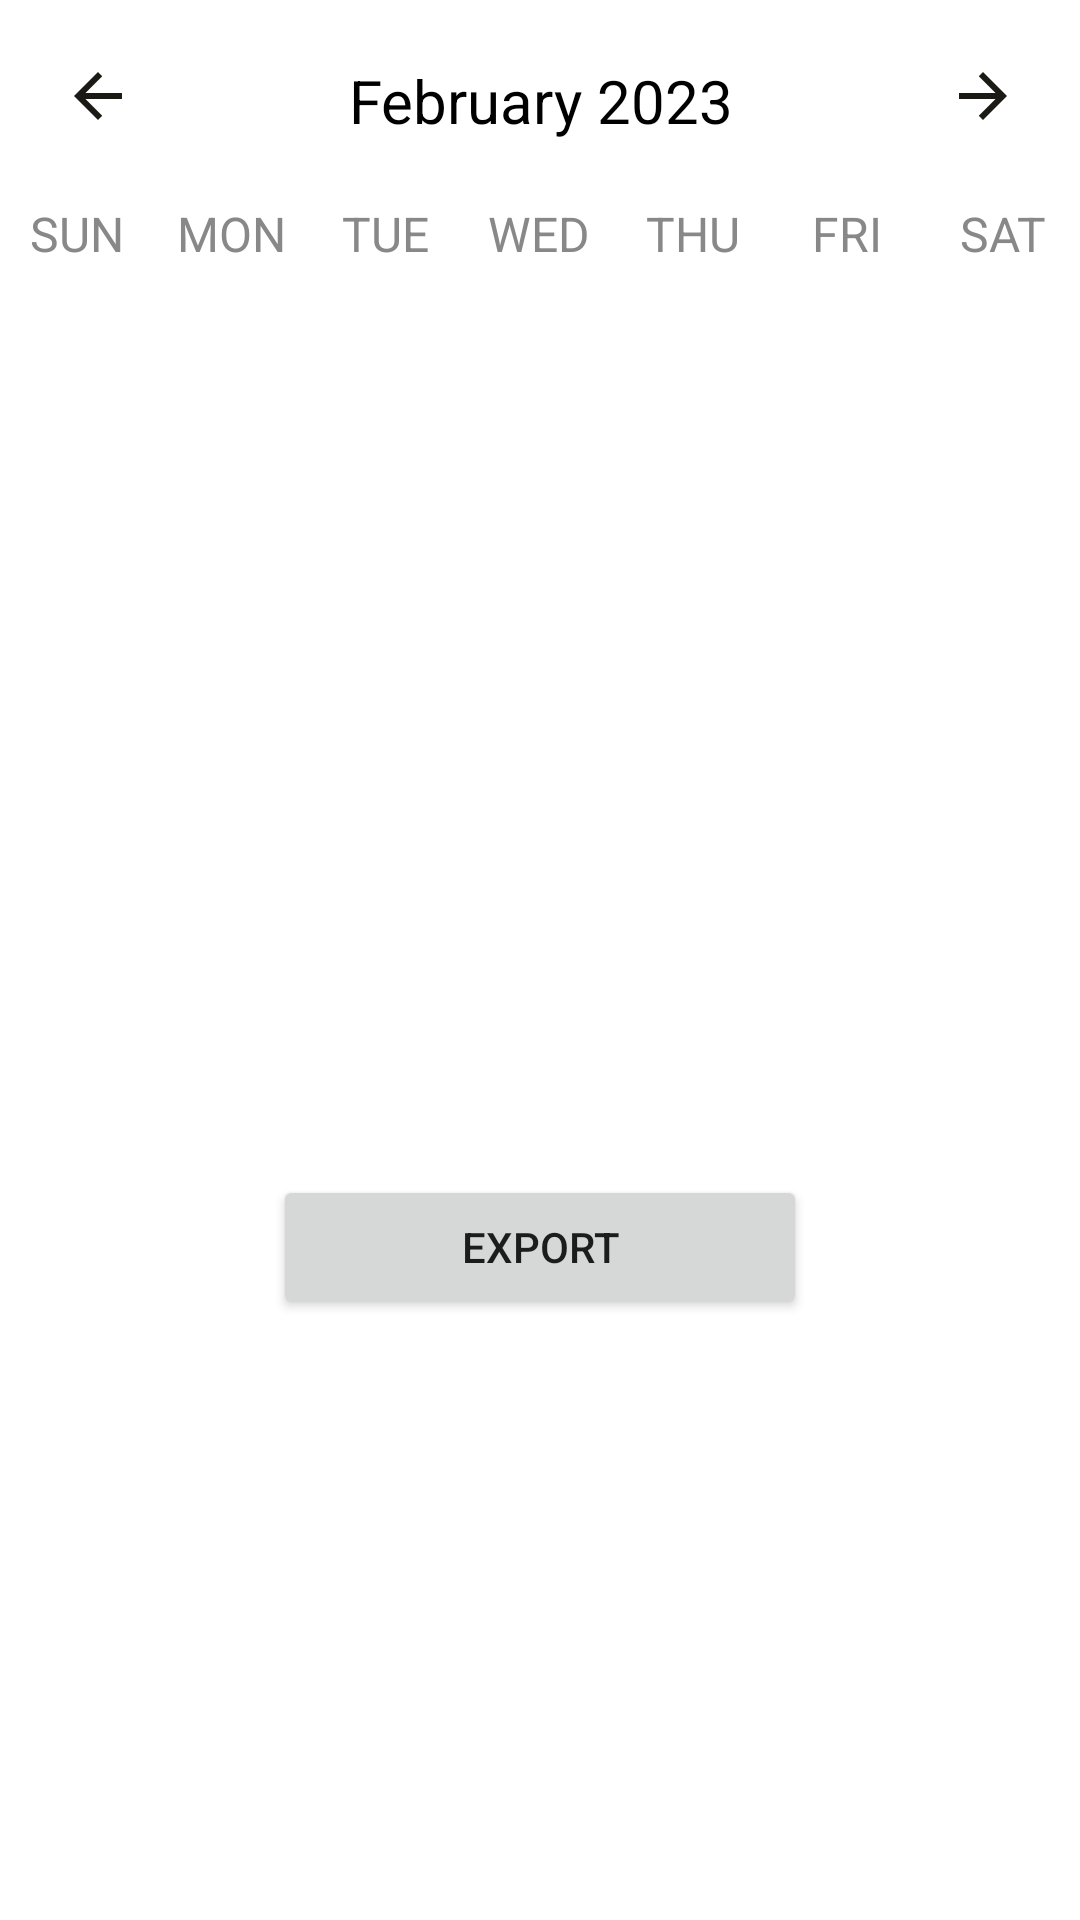

Icon click points for this 1080w x 1920h phone screenshot, format point (x, y):
arrow forward: point (983, 96)
back arrow: point (98, 96)
